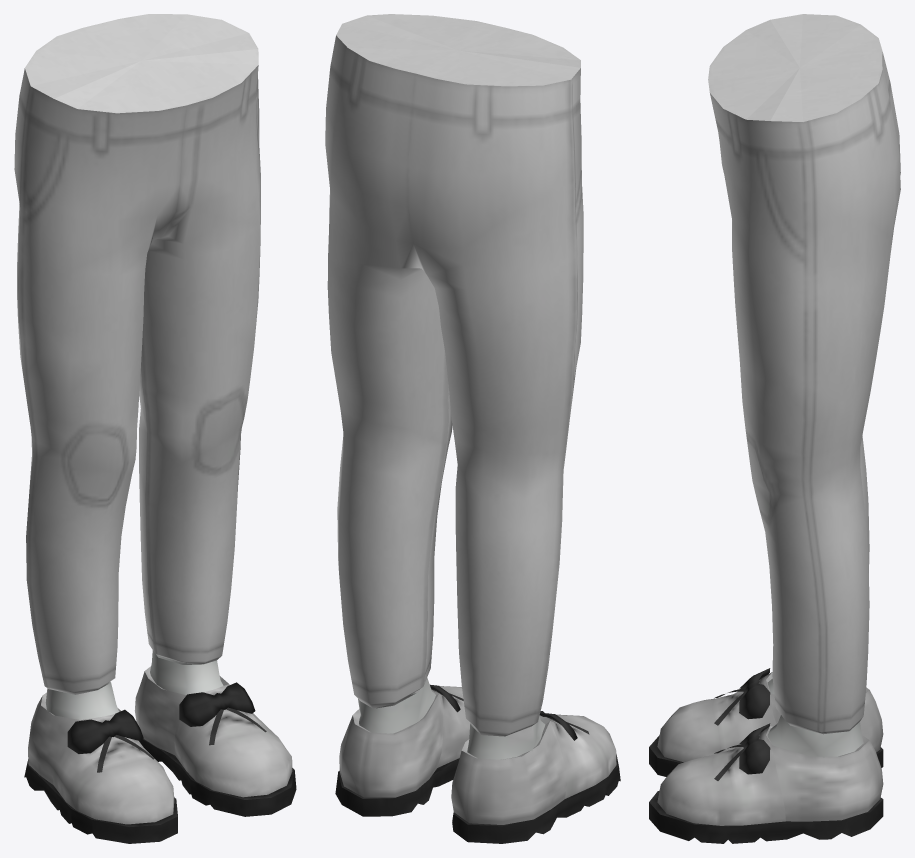
The model's file is tr0720_00_lwb02.gltf.
The picture shows the model from 3 angles, left to right: view 1: azimuth 30°, elevation 25°; view 2: azimuth 150°, elevation 25°; view 3: azimuth 270°, elevation 25°; orthographic projection. The views are drawn at different scales.
Visible parts, largest first — view 1: lwb02_lowerbody_mesh_shape:lowerbody02, lwb02_shoes_mesh_shape:lowerbody02, lwb02_socks_mesh_shape:lowerbody02; view 2: lwb02_lowerbody_mesh_shape:lowerbody02, lwb02_shoes_mesh_shape:lowerbody02, lwb02_socks_mesh_shape:lowerbody02; view 3: lwb02_lowerbody_mesh_shape:lowerbody02, lwb02_shoes_mesh_shape:lowerbody02, lwb02_socks_mesh_shape:lowerbody02.
Boxes of the visible parts, x1=… form: lwb02_lowerbody_mesh_shape:lowerbody02: x1=14, y1=14, x2=260, y2=694; lwb02_shoes_mesh_shape:lowerbody02: x1=24, y1=666, x2=296, y2=843; lwb02_socks_mesh_shape:lowerbody02: x1=45, y1=650, x2=223, y2=719; lwb02_lowerbody_mesh_shape:lowerbody02: x1=325, y1=14, x2=583, y2=736; lwb02_shoes_mesh_shape:lowerbody02: x1=335, y1=684, x2=620, y2=843; lwb02_socks_mesh_shape:lowerbody02: x1=358, y1=678, x2=545, y2=759; lwb02_lowerbody_mesh_shape:lowerbody02: x1=708, y1=14, x2=900, y2=734; lwb02_shoes_mesh_shape:lowerbody02: x1=649, y1=668, x2=883, y2=843; lwb02_socks_mesh_shape:lowerbody02: x1=767, y1=679, x2=863, y2=757.
Size of what is drawn, in the model's own units: 0.3355 by 0.9787 by 0.3054.
1 material, 1 textured.
